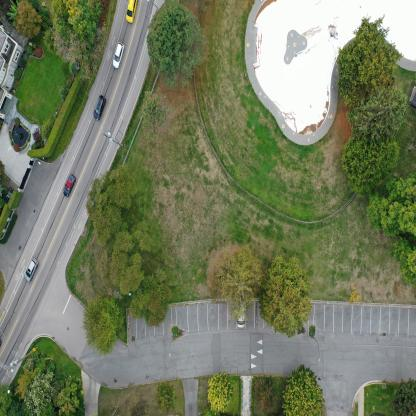Coniferous Tree: (259, 256, 316, 332), (109, 205, 156, 295), (146, 7, 210, 70), (343, 26, 397, 100), (200, 244, 258, 312), (346, 130, 398, 193), (87, 174, 138, 230), (81, 298, 123, 345), (349, 97, 401, 134), (130, 276, 170, 322), (139, 90, 170, 129)
Deciduous Tree: (376, 178, 416, 289), (288, 370, 329, 416), (208, 369, 235, 415), (63, 0, 96, 35)
